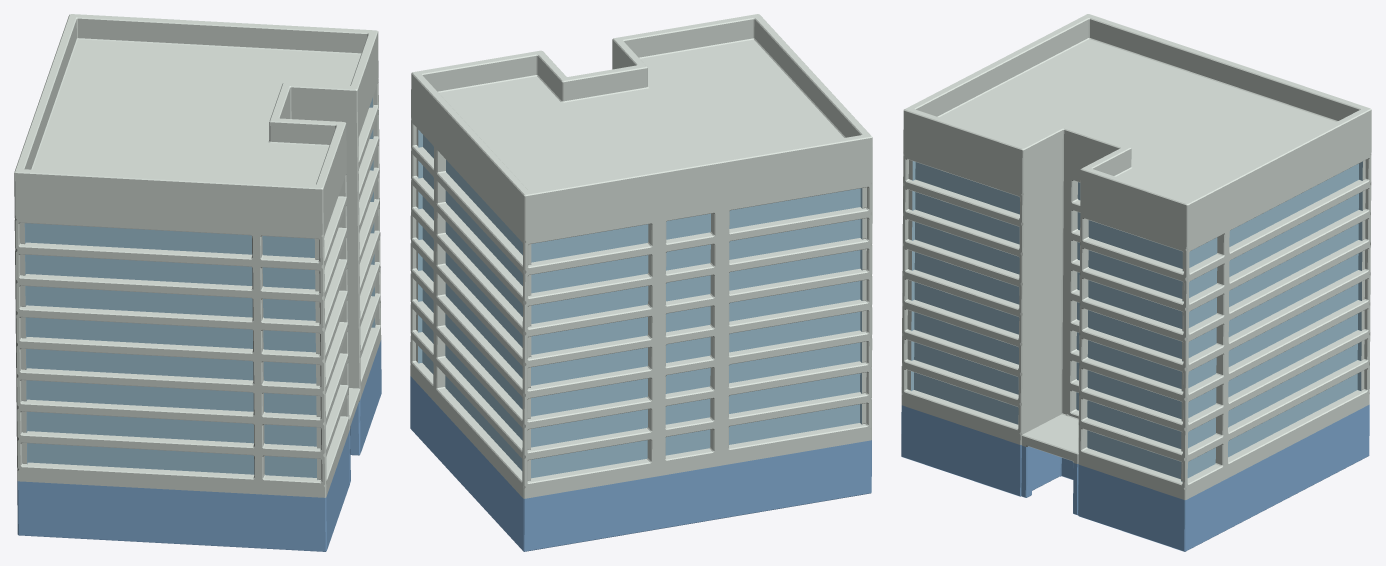
Rendered from Building_017.fbx.
The picture shows the model from 3 angles, left to right: view 1: azimuth 30°, elevation 25°; view 2: azimuth 150°, elevation 25°; view 3: azimuth 270°, elevation 25°; orthographic projection. The views are drawn at different scales.
Visible parts, largest first — view 1: Building_017; view 2: Building_017; view 3: Building_017.
Part boxes in pixels (x1,y1,x2,y2): Building_017: (14,14,381,551); Building_017: (410,14,872,551); Building_017: (901,14,1371,551).
Size of the model in its own units: 3580 by 3000 by 3662.
